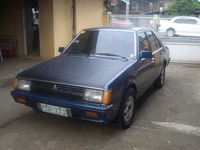car: (10, 26, 170, 128)
